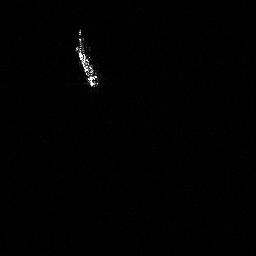ship: (72, 26, 106, 91)
